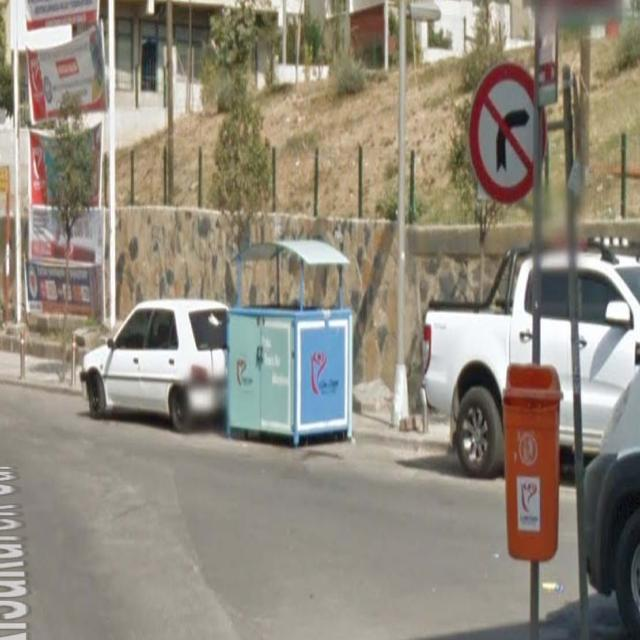sagadonulmez: (469, 64, 546, 202)
